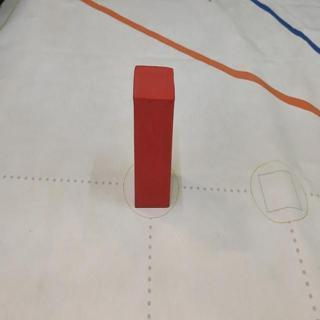redbox: (133, 63, 175, 208)
